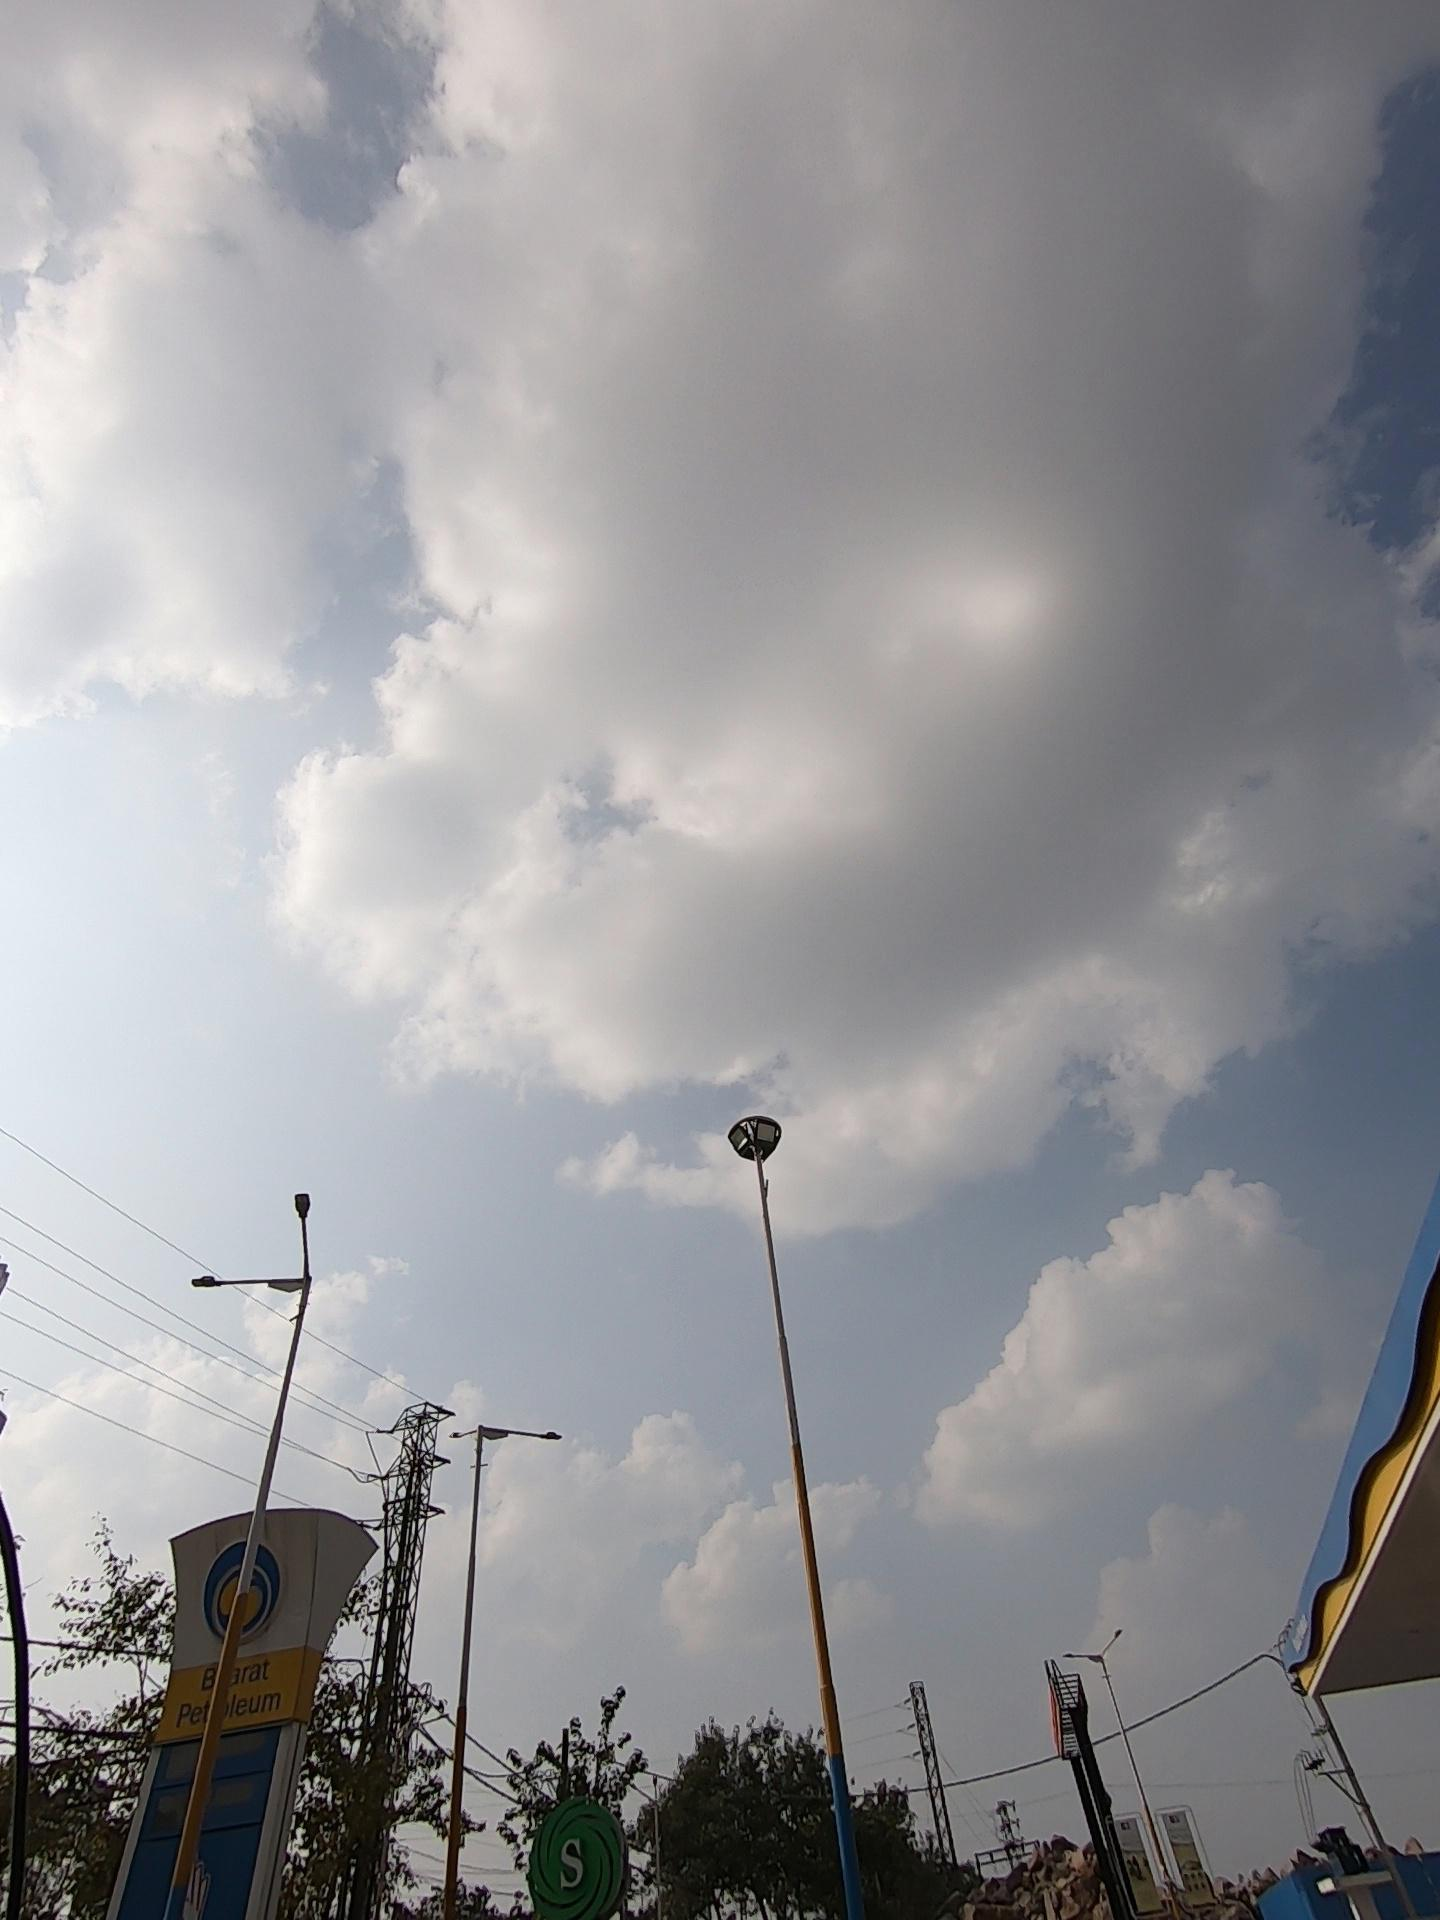off: (191, 1150, 467, 1347), (681, 1085, 876, 1259)
